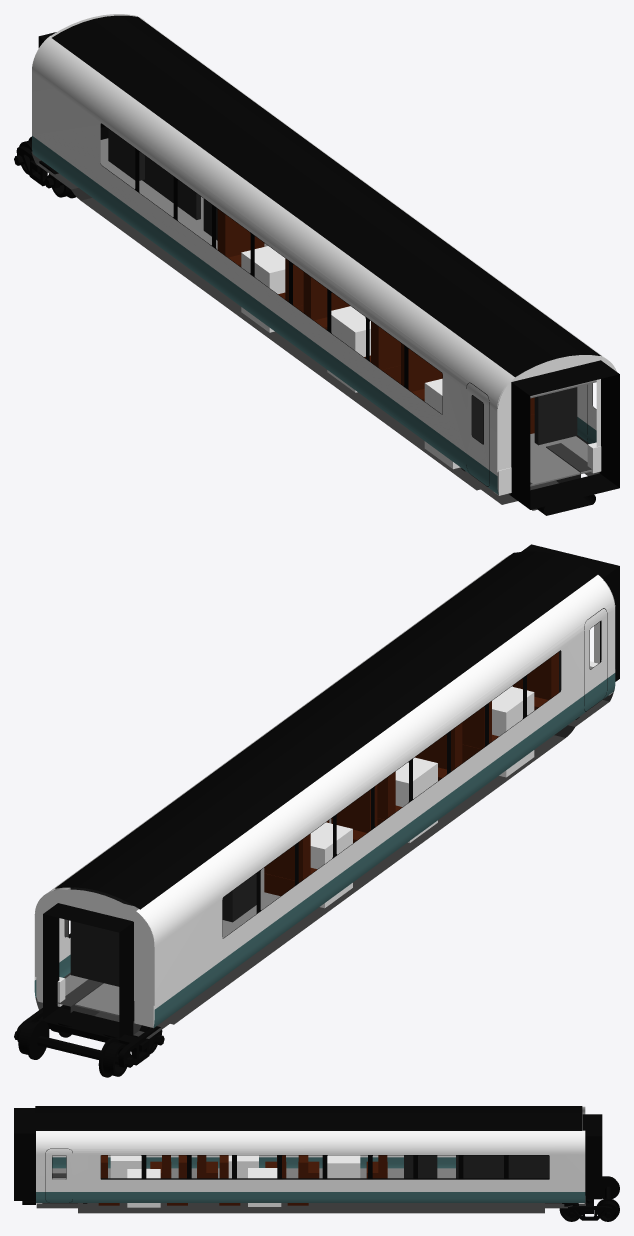
Rendered from hs_train_diner_car.glb.
3 views of the same model, one above another, from view 1: azimuth 30°, elevation 25°; view 2: azimuth 150°, elevation 25°; view 3: azimuth 270°, elevation 25° (orthographic). The views are drawn at different scales.
Visible parts, largest first — view 1: SketchUp, Mesh_1621_1, Box, Box_2, Box_28, Box_6, Box_23, Box_29, Box_24, Box_7, Box_26, Box_19 (+1 smaller); view 2: SketchUp, Mesh_1621_1, Box_7 (×2), Box, Box_18, Box_28, Box_23, Box_29, Box_31, Box_21, Box_26, Line004 (+6 smaller); view 3: SketchUp, Mesh_1621_1, Box_7 (×2), Box_6, Box, Box_28, Box_18, Box_23, Box_13, Box_8, Line004, Circle015 (+9 smaller).
Boxes of the visible parts, x1,y1,x2,y2 form: SketchUp: (31, 14, 619, 515); Mesh_1621_1: (52, 15, 601, 377); Box: (100, 138, 591, 486); Box_2: (534, 387, 577, 445); Box_28: (241, 246, 285, 332); Box_6: (142, 156, 200, 219); Box_23: (327, 306, 370, 392); Box_29: (217, 209, 264, 257); Box_24: (303, 272, 349, 320); Box_7: (108, 129, 144, 180); Box_26: (371, 321, 400, 369); Box_19: (401, 343, 442, 391); SketchUp: (34, 544, 619, 1038); Mesh_1621_1: (55, 551, 598, 909); Box_7 (×2): (70, 873, 256, 986); Box: (65, 685, 512, 1016); Box_18: (492, 686, 534, 777); Box_28: (310, 822, 352, 908); Box_23: (395, 757, 437, 842); Box_29: (264, 834, 310, 881); Box_31: (331, 785, 377, 832); Box_21: (513, 652, 558, 699); Box_26: (416, 723, 462, 770); Line004: (16, 1008, 162, 1067); SketchUp: (14, 1106, 602, 1213); Mesh_1621_1: (35, 1106, 582, 1130); Box_7 (×2): (404, 1155, 549, 1178); Box_6: (456, 1155, 516, 1178); Box: (52, 1168, 455, 1179); Box_28: (327, 1155, 360, 1178); Box_18: (110, 1155, 141, 1178); Box_23: (228, 1155, 258, 1178); Box_13: (127, 1169, 160, 1207); Box_8: (248, 1168, 281, 1206); Line004: (566, 1176, 612, 1220); Circle015: (597, 1177, 619, 1216).
Bounding box in the file's own units: 3.01 × 3.86 × 22.06.
